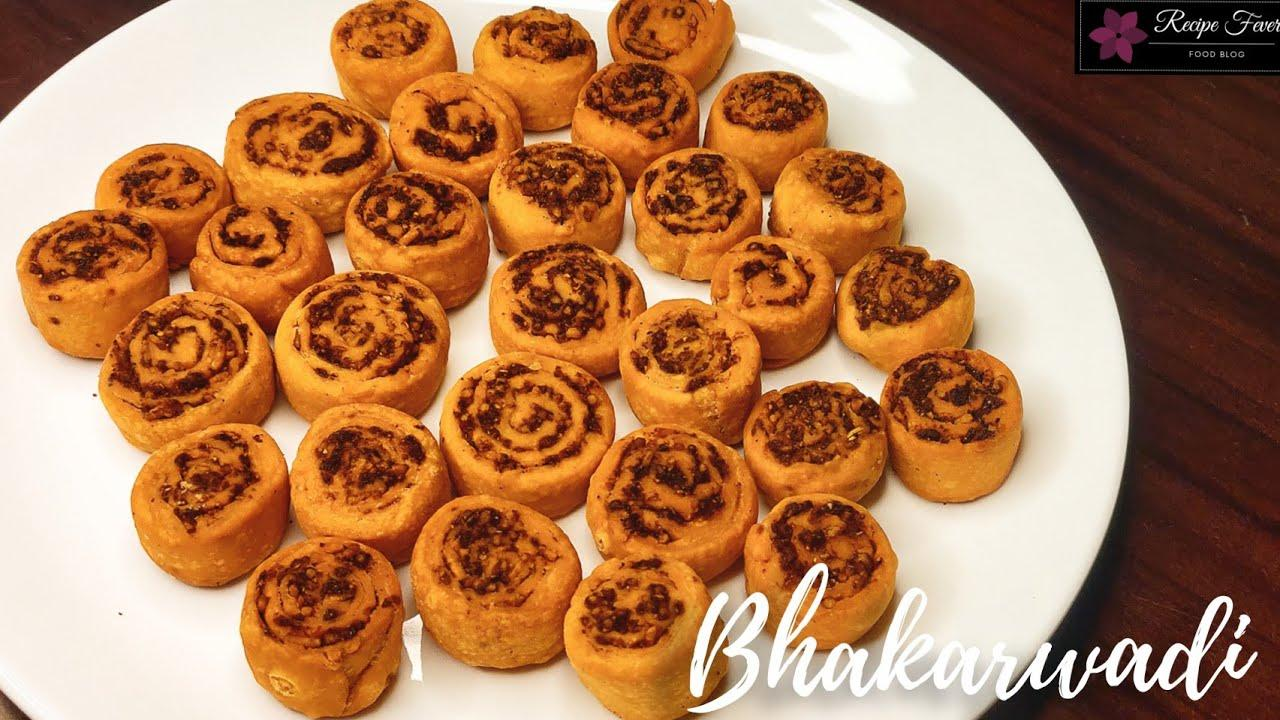bhakarwadi: (17, 0, 1027, 562)
